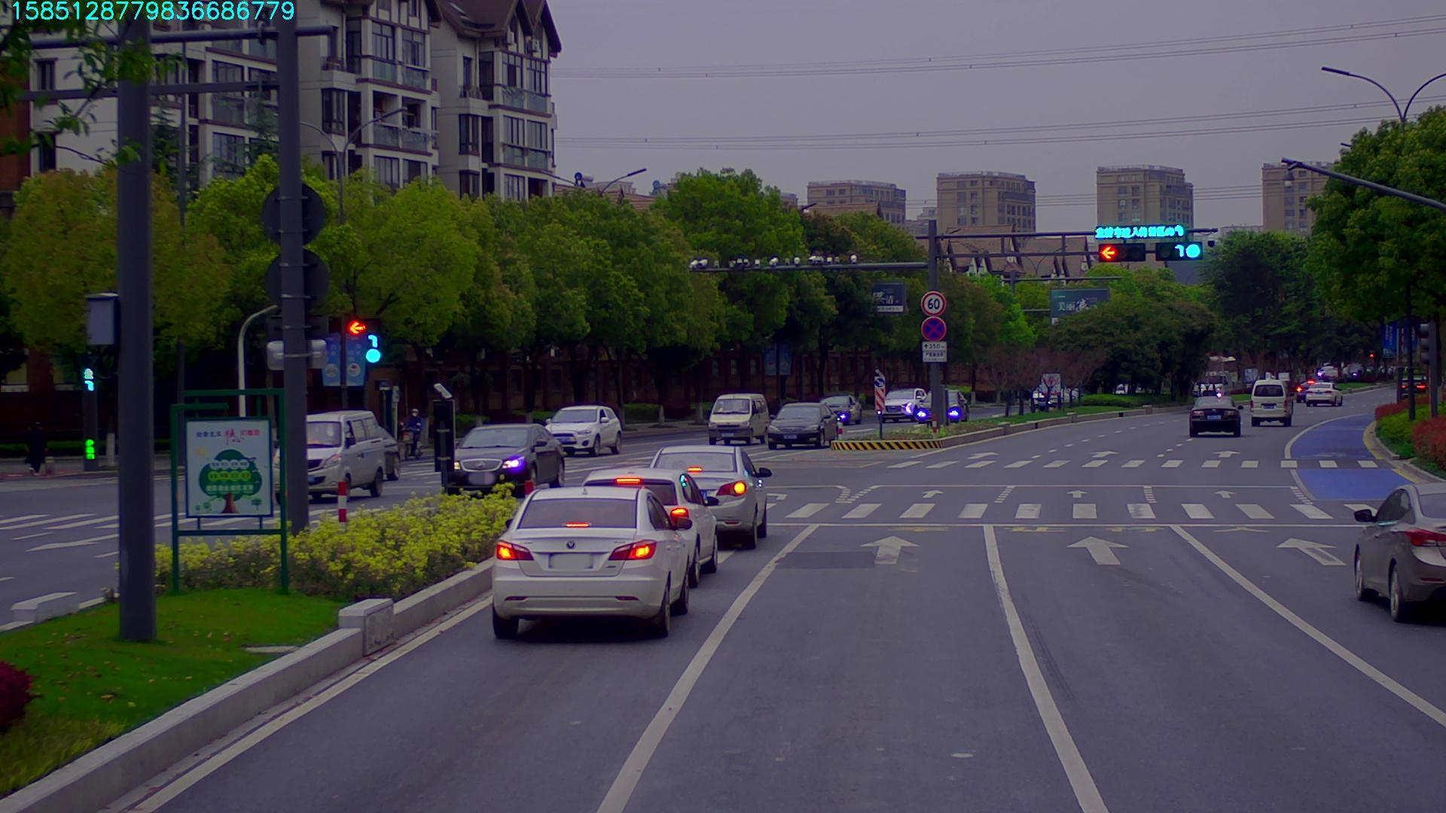green: (1152, 239, 1209, 263)
red: (1092, 242, 1139, 263)
wait_on: (1091, 221, 1189, 239)
